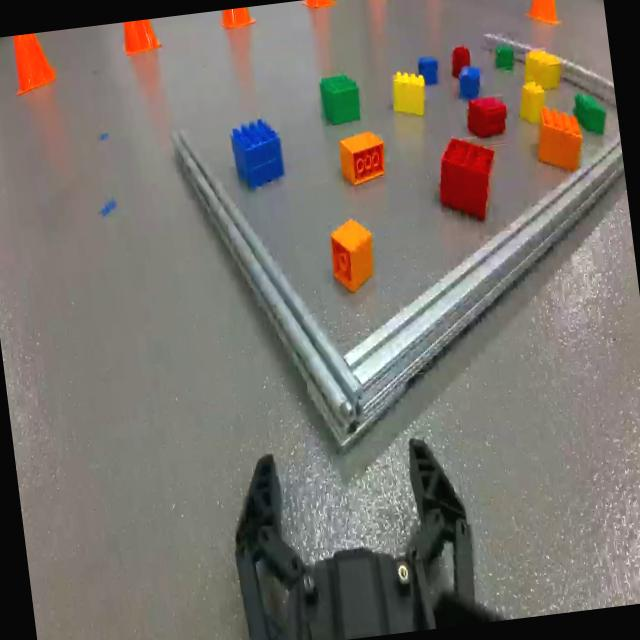block: (518, 38, 560, 90), (390, 70, 430, 123), (517, 80, 545, 124)
blue: (228, 114, 288, 196), (454, 62, 482, 98), (415, 54, 439, 86)
cone: (6, 30, 58, 100), (120, 18, 163, 58), (216, 6, 258, 37), (521, 0, 561, 28), (298, 0, 334, 13)
green: (317, 70, 363, 126), (570, 87, 610, 144), (491, 42, 514, 72)
metal barrier: (173, 30, 622, 454)
orange: (324, 213, 380, 297), (532, 99, 585, 174), (336, 130, 386, 186)
red goal: (432, 128, 502, 229), (464, 89, 508, 140), (448, 41, 472, 79)
